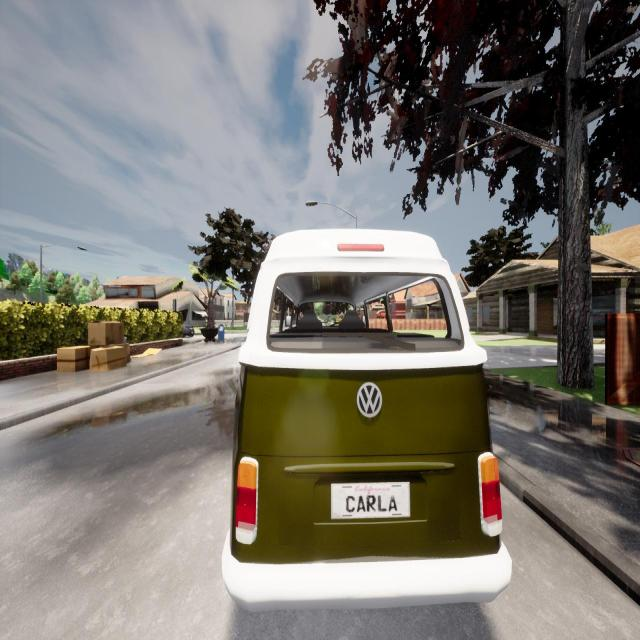Vehicle: (222, 229, 511, 610), (183, 322, 194, 337)
